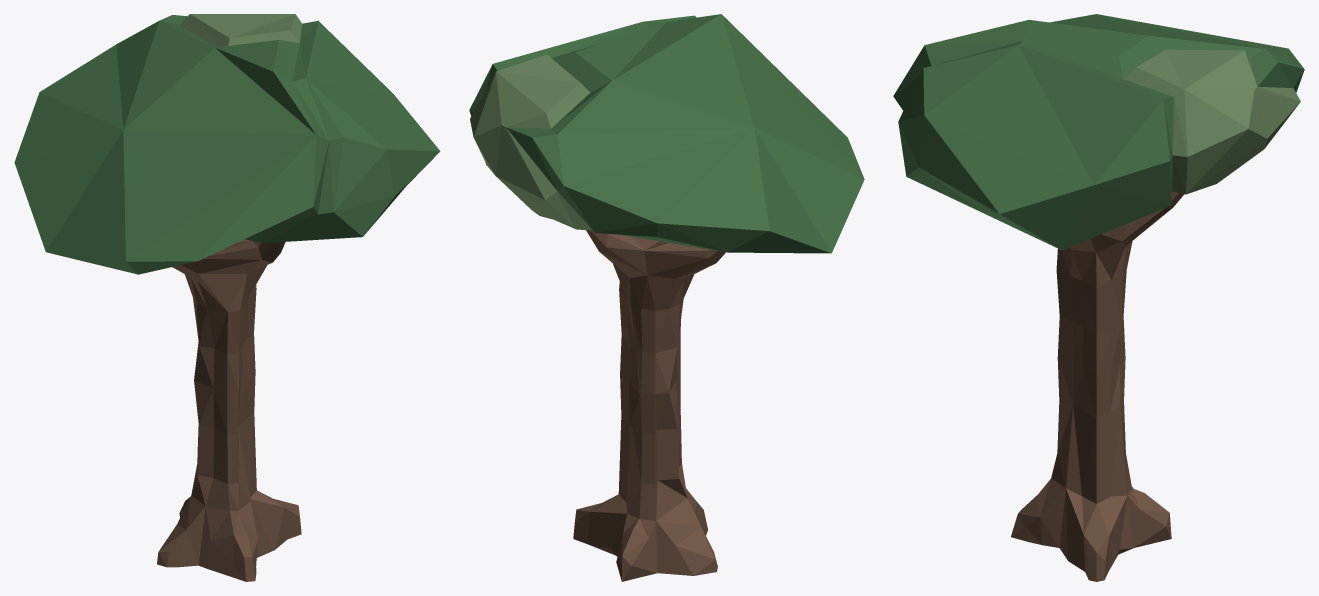
The model's file is _tree_12.fbx.
The picture shows the model from 3 angles, left to right: view 1: azimuth 30°, elevation 25°; view 2: azimuth 150°, elevation 25°; view 3: azimuth 270°, elevation 25°; orthographic projection. The views are drawn at different scales.
Visible parts, largest first — view 1: tree_12; view 2: tree_12; view 3: tree_12.
Part boxes in pixels (bbox=[...]): tree_12: bbox=[14, 14, 440, 581]; tree_12: bbox=[469, 14, 864, 581]; tree_12: bbox=[893, 14, 1304, 581].
Bounding box in the file's own units: 726 × 988 × 694.
